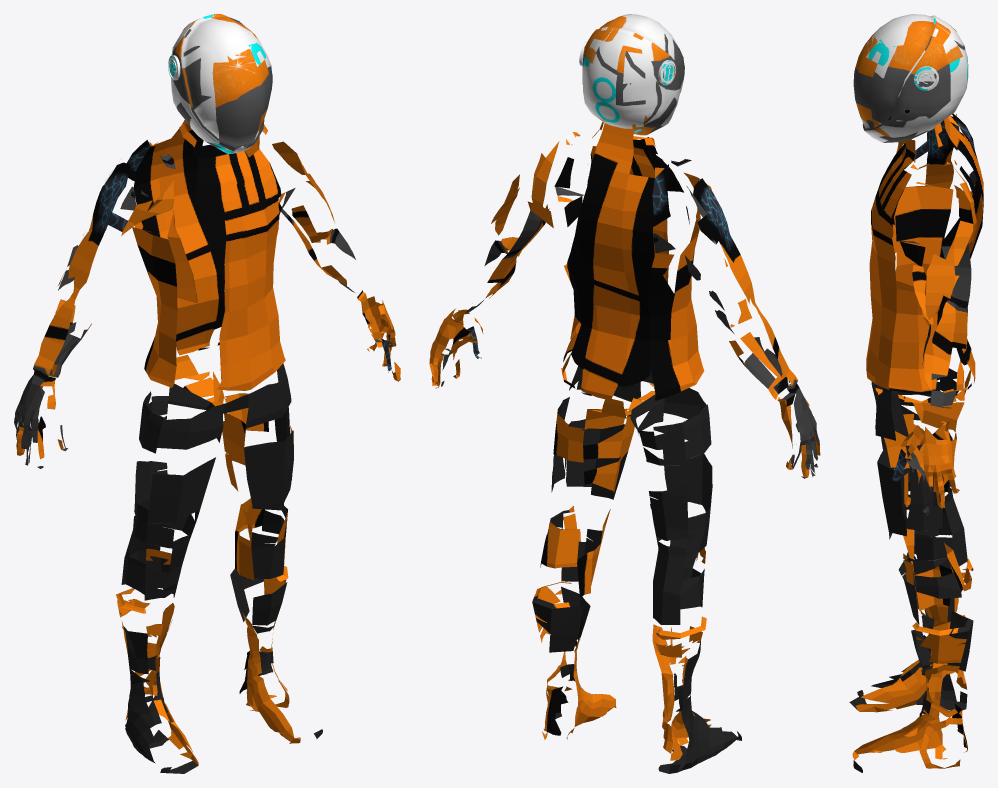
File: personaje.obj
3 views of the same model, side by side, from view 1: azimuth 30°, elevation 25°; view 2: azimuth 150°, elevation 25°; view 3: azimuth 270°, elevation 25° (orthographic).
Parts seen in each view (by area): view 1: Piernas, Object001, Brazos, Cabeza; view 2: Piernas, Object001, Brazos, Cabeza; view 3: Piernas, Object001, Cabeza, Brazos.
Part boxes in pixels (x1,y1,x2,y2): Piernas: [116, 355, 322, 773]; Object001: [132, 120, 285, 390]; Brazos: [14, 124, 400, 468]; Cabeza: [168, 14, 272, 153]; Piernas: [532, 366, 741, 773]; Object001: [554, 121, 704, 400]; Brazos: [429, 132, 820, 478]; Cabeza: [579, 14, 684, 135]; Piernas: [849, 368, 973, 772]; Object001: [866, 117, 983, 394]; Cabeza: [853, 14, 968, 142]; Brazos: [892, 113, 977, 514].
Bounding box in the file's own units: 11.76 × 21.13 × 3.59.
